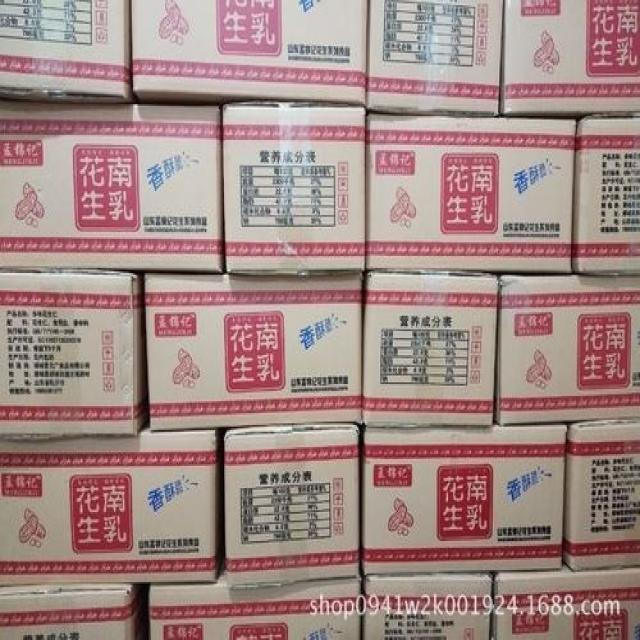box: (0, 99, 226, 273), (0, 419, 226, 586), (145, 271, 364, 430), (365, 111, 577, 275), (361, 419, 567, 574), (222, 101, 367, 275), (0, 267, 150, 435), (132, 0, 368, 105), (224, 422, 359, 587), (494, 273, 639, 426), (362, 271, 497, 426), (149, 551, 361, 638), (499, 0, 639, 118), (366, 1, 504, 117), (0, 0, 141, 102), (489, 560, 639, 638), (563, 418, 639, 571), (573, 116, 639, 275), (360, 571, 493, 638), (0, 584, 150, 638)
